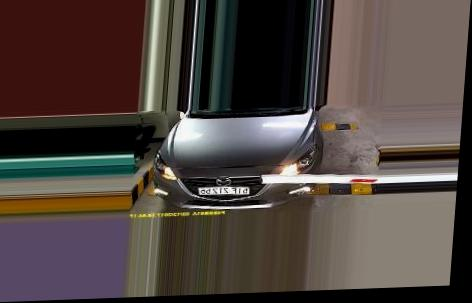License_Plate: (198, 184, 251, 195)
